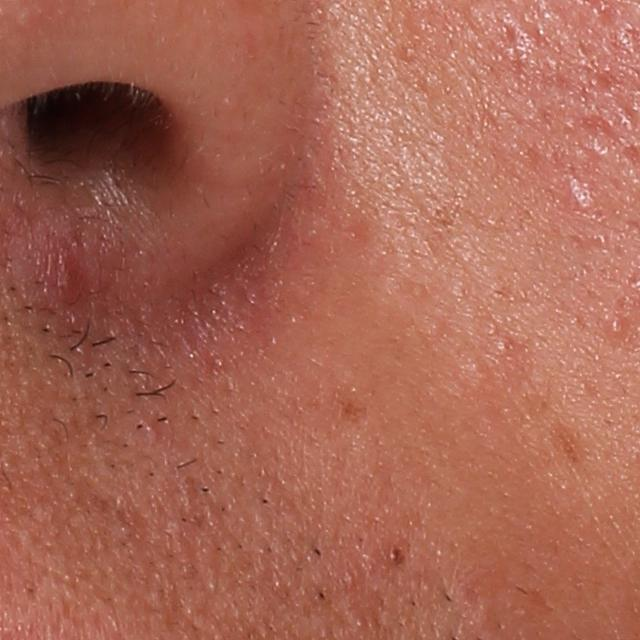papule: (44, 246, 95, 310)
